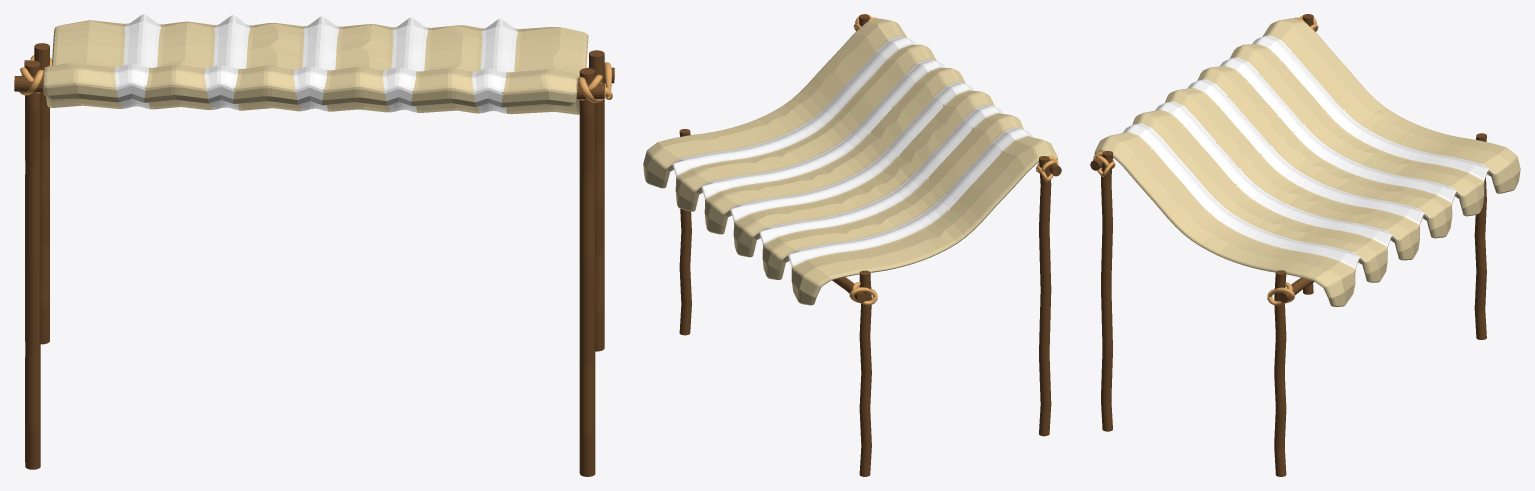
Rendered from market-stall4.fbx.
The picture shows the model from 3 angles, left to right: view 1: azimuth 30°, elevation 25°; view 2: azimuth 150°, elevation 25°; view 3: azimuth 270°, elevation 25°; orthographic projection. The views are drawn at different scales.
Parts seen in each view (by area): view 1: Plane.067; view 2: Plane.067; view 3: Plane.067.
Boxes of the visible parts, x1,y1,x2,y2 form: Plane.067: (14, 14, 614, 476); Plane.067: (643, 14, 1061, 476); Plane.067: (1090, 14, 1520, 476).
Size of the model in its own units: 536 by 353 by 493.
